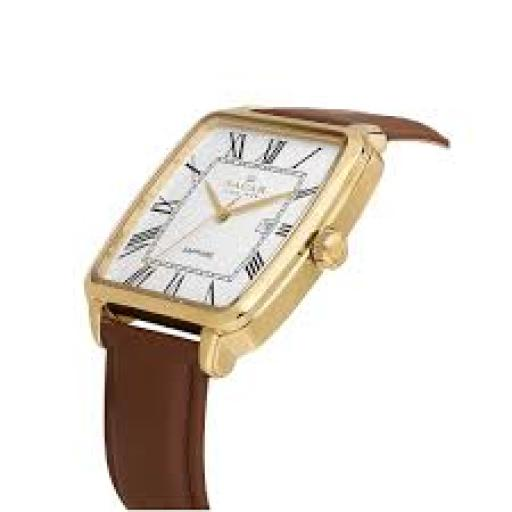KolSaati: (60, 52, 462, 512)
